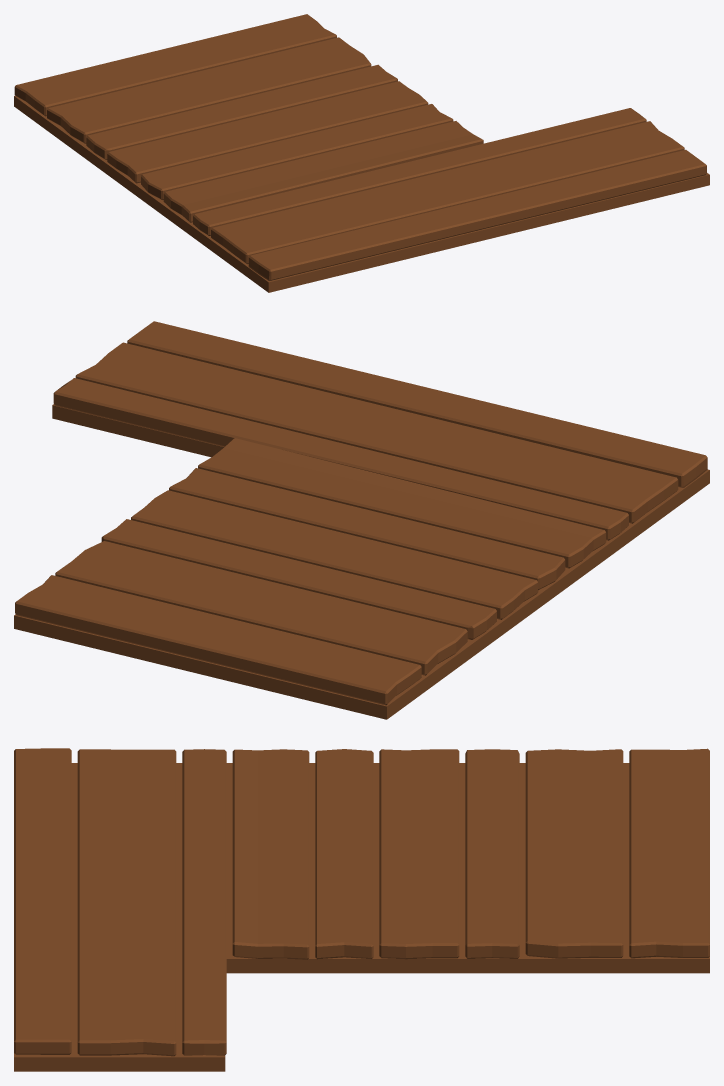
Rendered from ww_floor_e.glb.
The picture shows the model from 3 angles, top to bottom: view 1: azimuth 30°, elevation 25°; view 2: azimuth 150°, elevation 25°; view 3: azimuth 270°, elevation 25°; orthographic projection. The views are drawn at different scales.
Parts seen in each view (by area): view 1: Floor_E; view 2: Floor_E; view 3: Floor_E.
Part boxes in pixels (bbox=[...]): Floor_E: bbox=[14, 14, 709, 292]; Floor_E: bbox=[14, 321, 709, 719]; Floor_E: bbox=[14, 748, 709, 1071].
Bounding box in the file's own units: 4.93 × 0.246 × 4.93.
